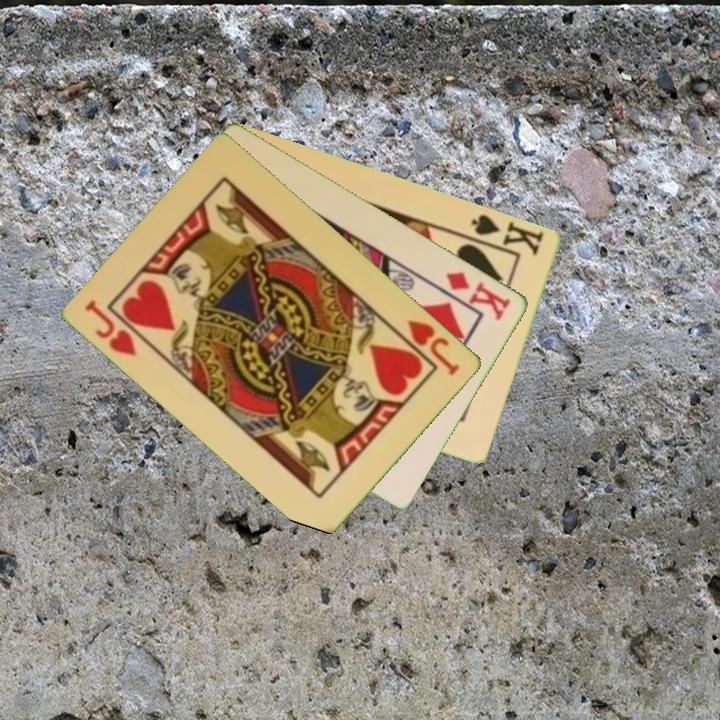Jh: (404, 316, 464, 379), (81, 296, 140, 359)
Kd: (443, 267, 515, 324)
Ks: (468, 210, 548, 258)
